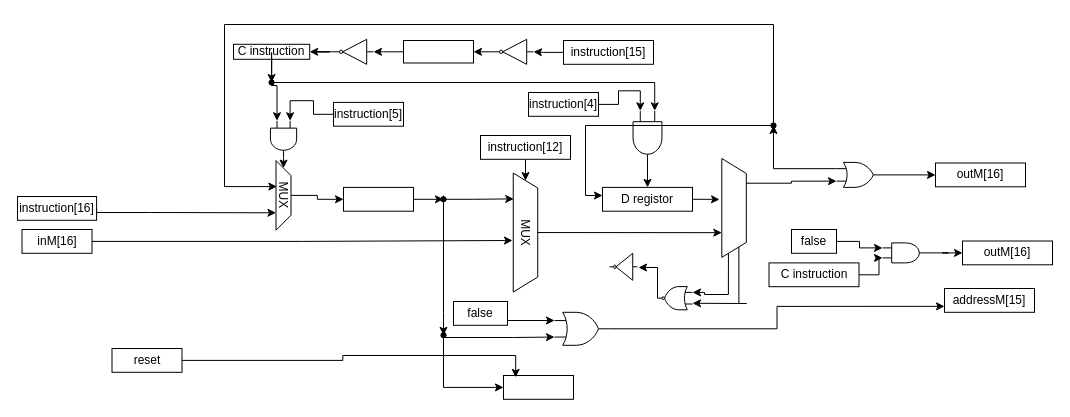
Image size: 1070x417. Some labels were removed from this diagram. The shapes that lost their labels are listed below. From the top down, each one's centre as x and y in pixels, then its label:
At pixel 438 51: "A instruction".
At pixel 378 198: "A Registor".
At pixel 733 207: "ALU".
At pixel 538 386: "PC".
